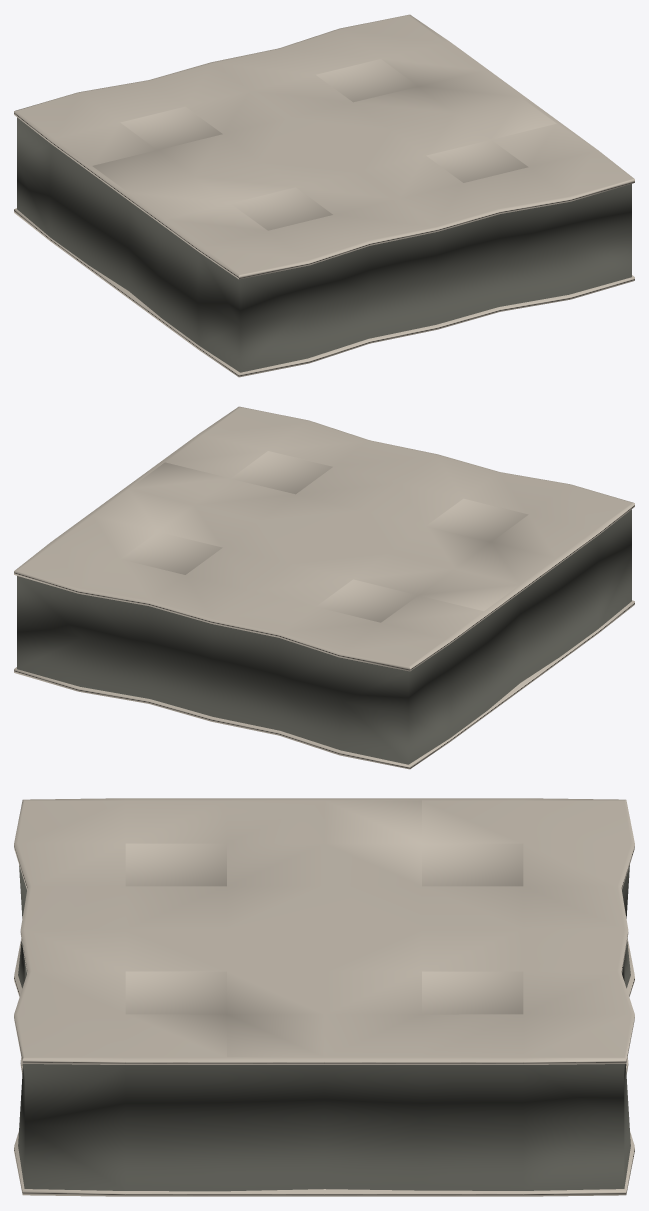
The model's file is FBX_PlatformerHalf.fbx.
3 renders of one model, top to bottom at view 1: azimuth 30°, elevation 25°; view 2: azimuth 150°, elevation 25°; view 3: azimuth 270°, elevation 25°, orthographic. The views are drawn at different scales.
Visible parts, largest first — view 1: PlatformerHalf; view 2: PlatformerHalf; view 3: PlatformerHalf.
Boxes of the visible parts, <box> form: PlatformerHalf: <box>14,14,634,377</box>; PlatformerHalf: <box>14,406,634,769</box>; PlatformerHalf: <box>14,798,634,1196</box>.
Size of the model in its own units: 820 by 200 by 818.
